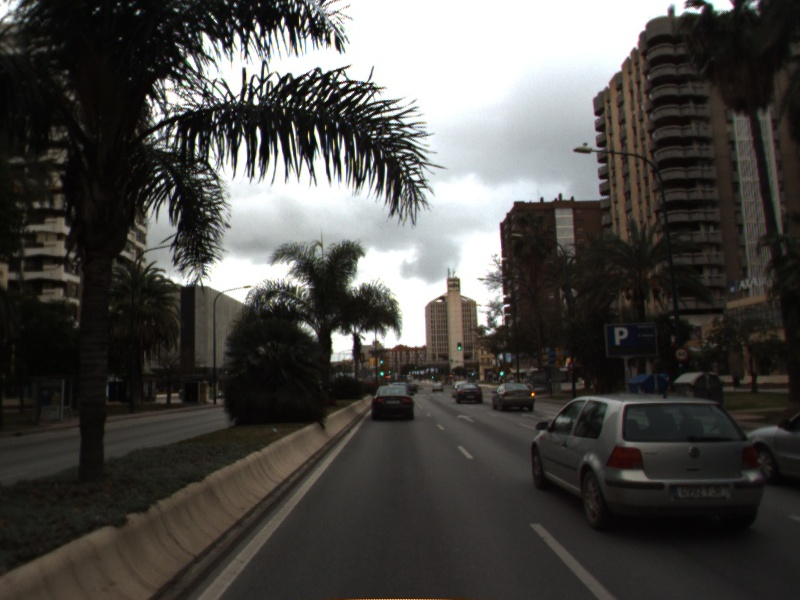STRAIGHT: (455, 412, 477, 424)
STRAIGHT_RIGHT: (518, 409, 561, 425)
